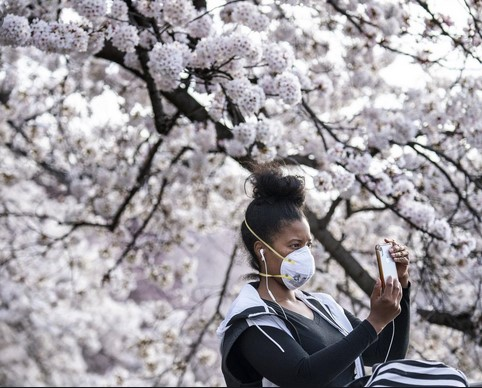face_with_mask: (241, 200, 318, 294)
